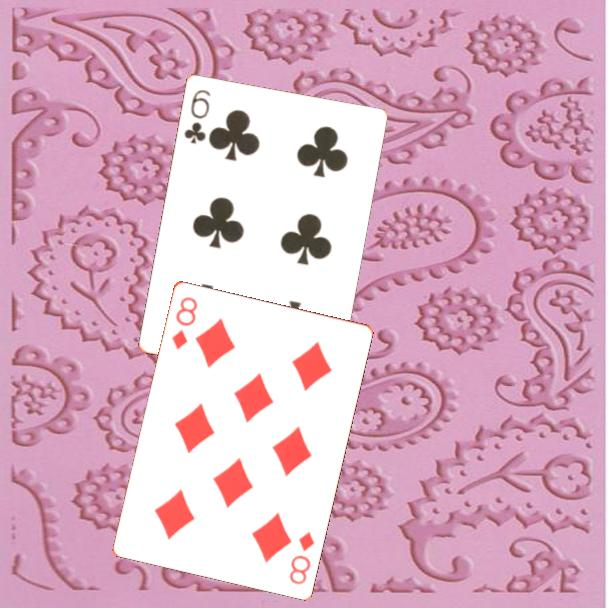c06: (180, 86, 213, 146)
d08: (285, 527, 317, 587), (168, 293, 200, 352)
